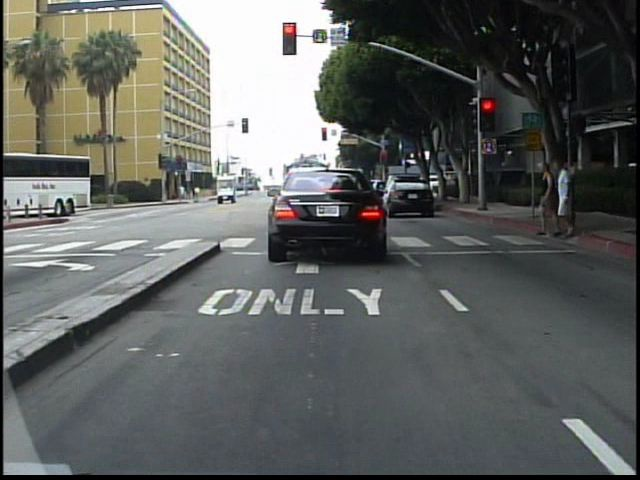person: (554, 160, 578, 239), (536, 159, 557, 240)
